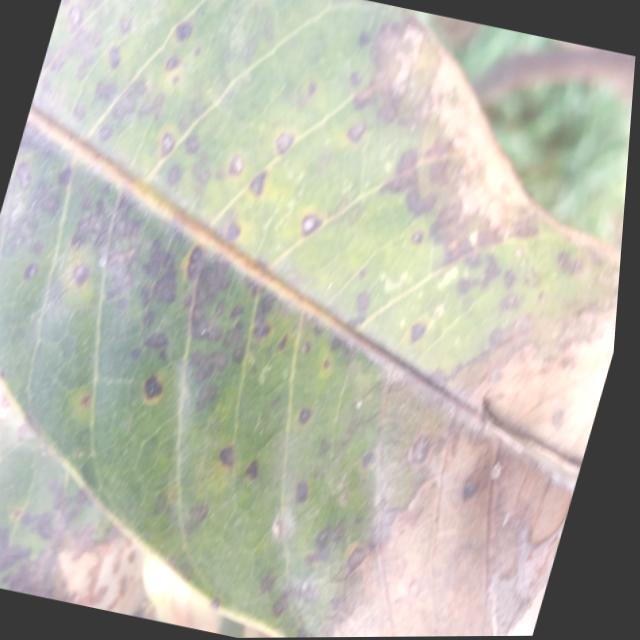Anthracnose: (137, 236, 183, 308), (425, 195, 468, 247), (187, 342, 232, 384), (400, 185, 439, 222), (177, 498, 214, 535), (404, 432, 436, 469), (187, 380, 221, 414), (341, 541, 372, 577), (553, 249, 585, 278), (137, 374, 167, 404), (183, 245, 206, 282), (189, 154, 214, 188), (374, 98, 403, 127), (246, 170, 275, 198), (270, 128, 298, 156), (392, 148, 421, 175), (509, 214, 539, 240), (497, 290, 524, 317), (311, 523, 337, 551), (68, 261, 95, 287), (171, 18, 197, 45), (344, 117, 369, 145), (63, 3, 85, 32), (459, 475, 481, 504), (298, 212, 324, 236), (269, 590, 291, 618), (13, 161, 34, 190), (220, 220, 244, 244), (180, 133, 204, 157), (249, 319, 272, 344), (225, 153, 247, 179), (151, 491, 172, 518), (486, 325, 509, 349), (353, 289, 374, 315), (19, 260, 41, 284), (144, 331, 170, 351), (94, 79, 116, 102), (54, 166, 77, 188), (453, 275, 477, 296), (258, 570, 277, 596), (165, 163, 184, 189), (330, 520, 348, 546), (95, 122, 116, 143), (243, 459, 262, 482), (409, 322, 428, 344), (354, 30, 374, 50), (294, 480, 310, 505), (295, 405, 314, 426), (549, 407, 566, 430), (346, 69, 365, 89), (160, 133, 175, 157), (219, 445, 234, 467), (228, 303, 245, 322), (71, 103, 88, 122), (108, 46, 122, 69), (118, 15, 132, 35), (276, 334, 291, 352), (165, 55, 180, 73), (410, 229, 425, 246), (361, 451, 375, 469), (503, 270, 515, 289), (209, 596, 223, 611), (79, 393, 91, 408), (190, 45, 203, 58), (131, 348, 142, 362), (301, 342, 311, 355), (297, 628, 312, 636), (308, 82, 316, 96), (323, 359, 330, 369)
Bacterial Cancer: (464, 490, 570, 636)
